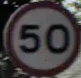Speed limit: (5, 3, 77, 72)
